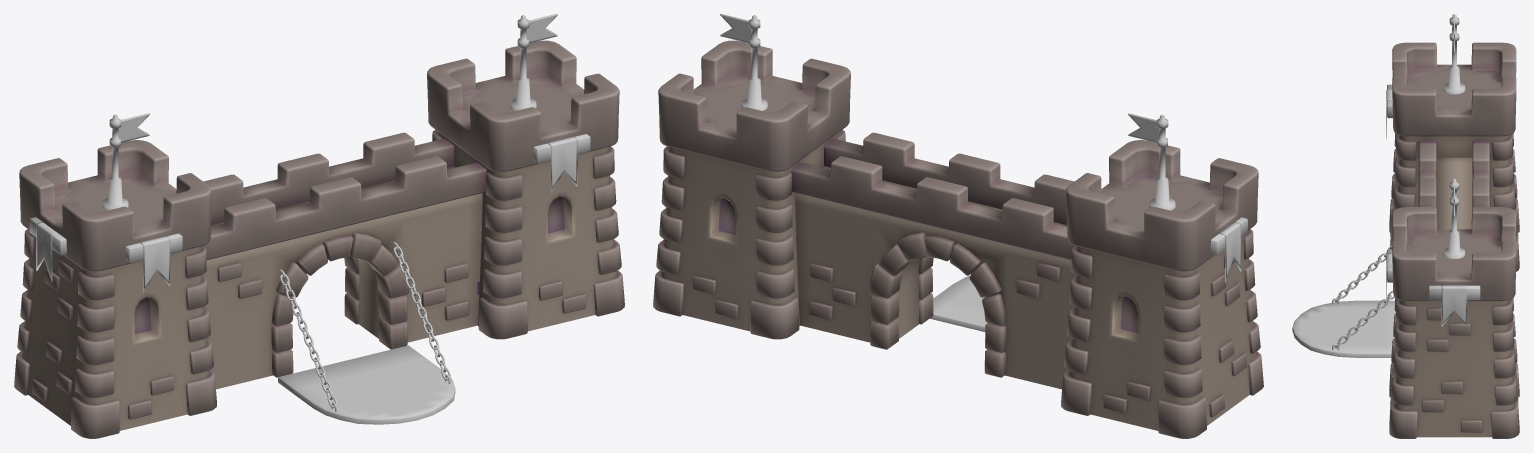
Rendered from gatePropedMesh.fbx.
The picture shows the model from 3 angles, left to right: view 1: azimuth 30°, elevation 25°; view 2: azimuth 150°, elevation 25°; view 3: azimuth 270°, elevation 25°; orthographic projection. The views are drawn at different scales.
Visible parts, largest first — view 1: gate_lowP, gateProps_low; view 2: gate_lowP, gateProps_low; view 3: gate_lowP, gateProps_low.
Part boxes in pixels (x1=…): gate_lowP: x1=14, y1=40, x2=624, y2=438; gateProps_low: x1=29, y1=14, x2=590, y2=424; gate_lowP: x1=653, y1=40, x2=1263, y2=438; gateProps_low: x1=720, y1=14, x2=1247, y2=331; gate_lowP: x1=1389, y1=42, x2=1519, y2=438; gateProps_low: x1=1292, y1=14, x2=1480, y2=357.
Bounding box in the file's own units: 1215 × 599 × 525.
